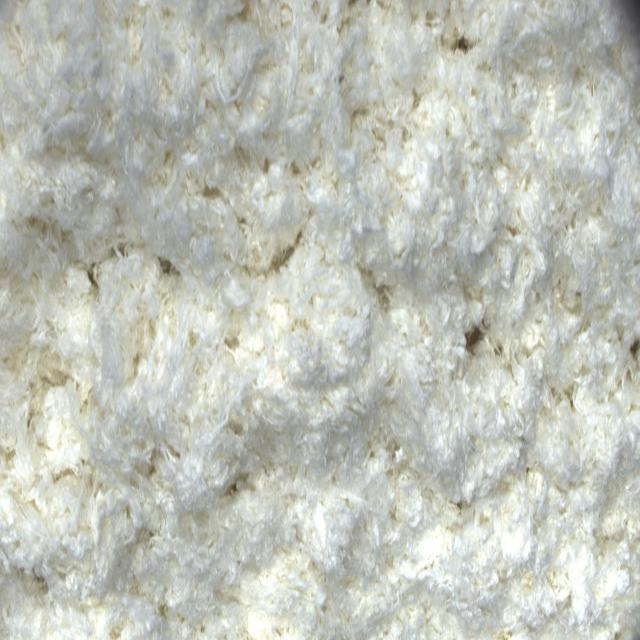dust: (467, 319, 486, 355), (458, 29, 473, 61), (157, 252, 172, 280)
